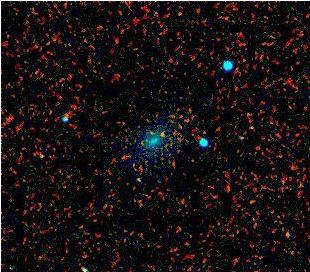star: (146, 121, 176, 151)
